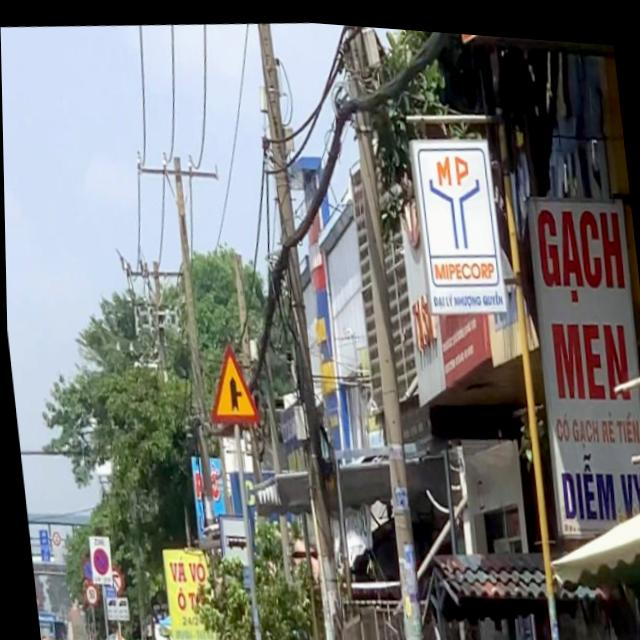Giao nhau voi duong khong uu tien ben phai: (201, 337, 262, 427)
